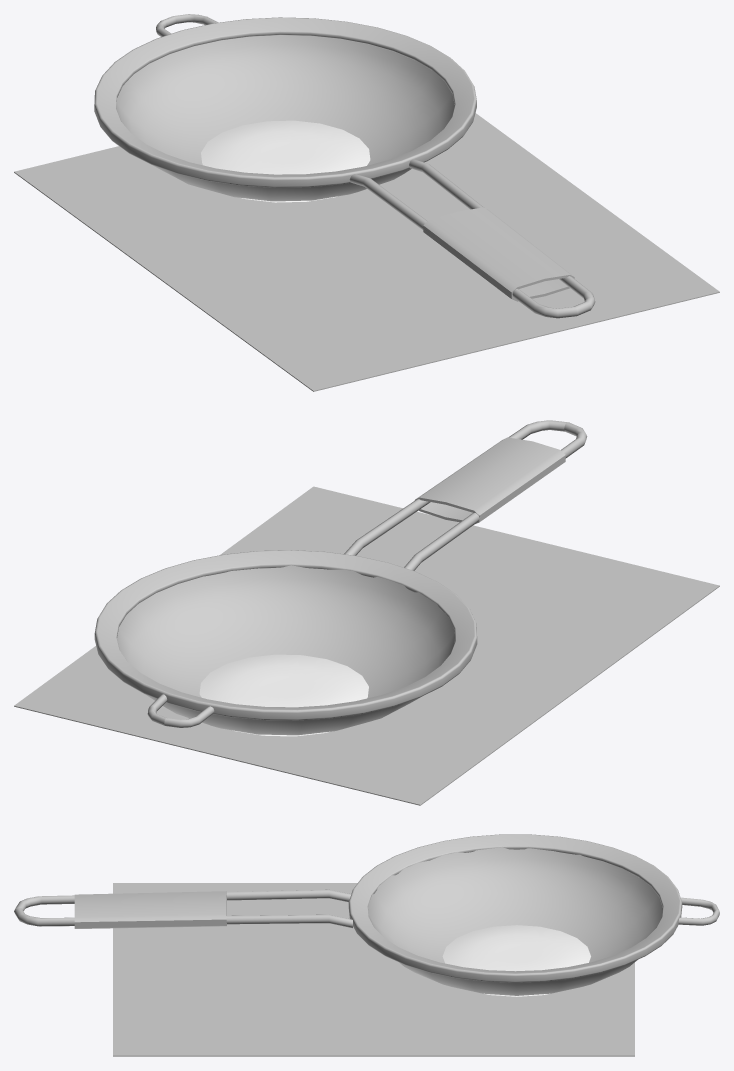
The model's file is Sieve_Paper.fbx.
The picture shows the model from 3 angles, top to bottom: view 1: azimuth 30°, elevation 25°; view 2: azimuth 150°, elevation 25°; view 3: azimuth 270°, elevation 25°; orthographic projection. The views are drawn at different scales.
Visible parts, largest first — view 1: paper, Sieve, Powder; view 2: paper, Sieve, Powder; view 3: paper, Sieve, Powder.
Part boxes in pixels (<box>): paper: <box>14,113,719,391</box>; Sieve: <box>94,14,595,318</box>; Powder: <box>201,120,370,202</box>; paper: <box>14,486,719,805</box>; Sieve: <box>94,420,587,735</box>; Powder: <box>199,654,368,736</box>; paper: <box>113,883,634,1056</box>; Sieve: <box>14,834,719,995</box>; Powder: <box>442,925,590,996</box>.
Size of the model in its own units: 1155 by 221 by 1994.
